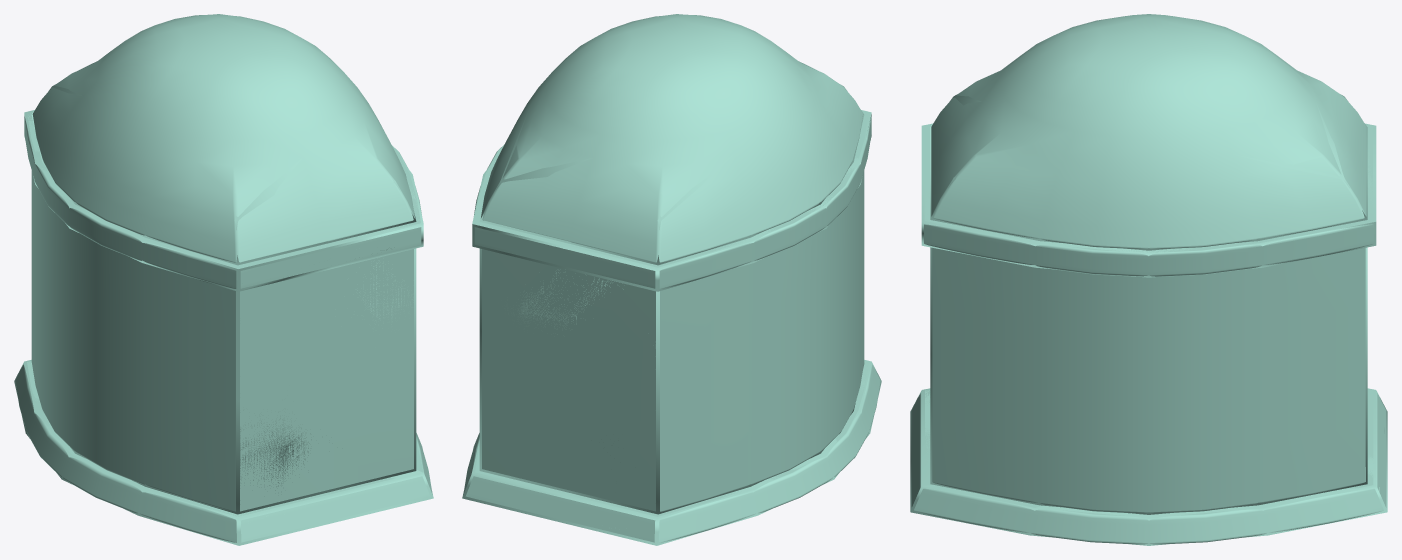
File: space-kit__hangar_roundB.glb
3 renders of one model, left to right at view 1: azimuth 30°, elevation 25°; view 2: azimuth 150°, elevation 25°; view 3: azimuth 270°, elevation 25°, orthographic. The views are drawn at different scales.
Visible parts, largest first — view 1: L0_accent, L1_accent; view 2: L0_accent, L1_accent; view 3: L0_accent, L1_accent.
Boxes of the visible parts, x1,y1,x2,y2 form: L0_accent: (15, 14, 432, 542); L1_accent: (14, 84, 433, 545); L0_accent: (463, 14, 880, 542); L1_accent: (462, 84, 881, 545); L0_accent: (911, 14, 1386, 544); L1_accent: (910, 94, 1387, 545).
Size of the model in its own units: 0.8333 by 0.9891 by 1.
